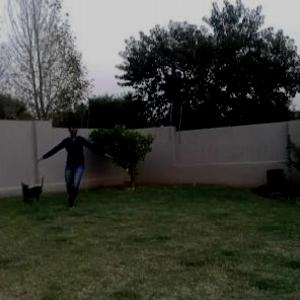land: (46, 115, 124, 206)
